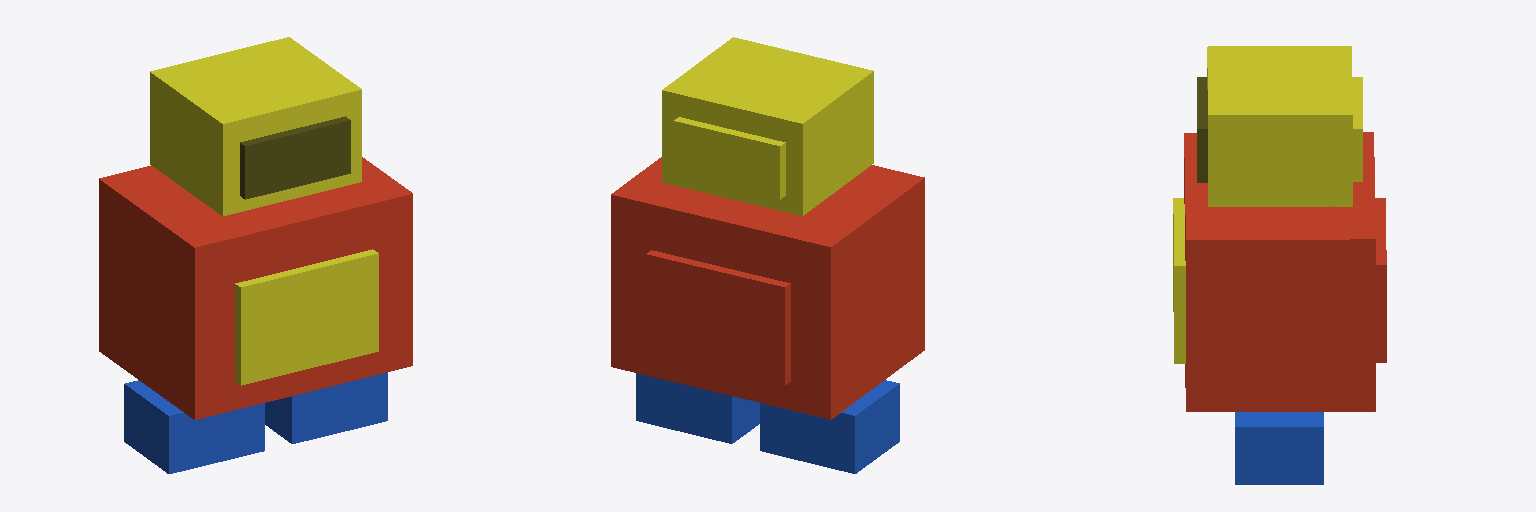
3 views of the same model, side by side, from view 1: azimuth 30°, elevation 25°; view 2: azimuth 150°, elevation 25°; view 3: azimuth 270°, elevation 25° (orthographic).
Parts seen in each view (by area): view 1: 立方体; view 2: 立方体; view 3: 立方体.
Part boxes in pixels (bbox=[...]): 立方体: bbox=[99, 37, 412, 473]; 立方体: bbox=[611, 37, 924, 473]; 立方体: bbox=[1173, 46, 1386, 484].
Size of the model in its own units: 1.91 by 2.89 by 1.6.
Materials: 1 (1 with a texture image).